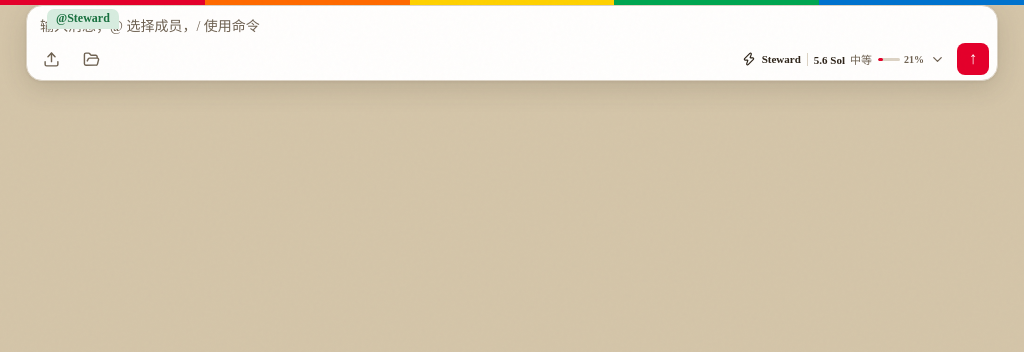
it: Model/Effort 选择器（渲染 Composer 内的 ModelSelector） › 展开时显示 provider 私有的客户端升级信号
Click the button with aria-label "Steward，模型 5.6 Sol" at (843, 59), box top-left (734, 44), bottom-right (953, 74)
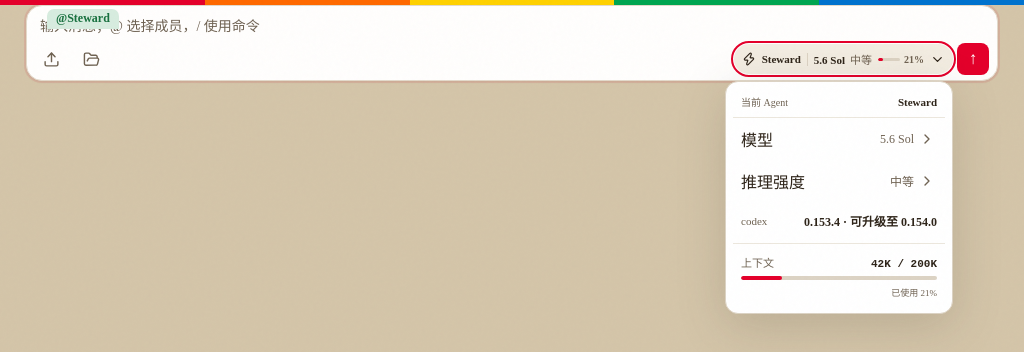
Expected: the text "0.153.4 · 可升级至 0.154.0" is shown, top-left (804, 212), bottom-right (937, 230)
